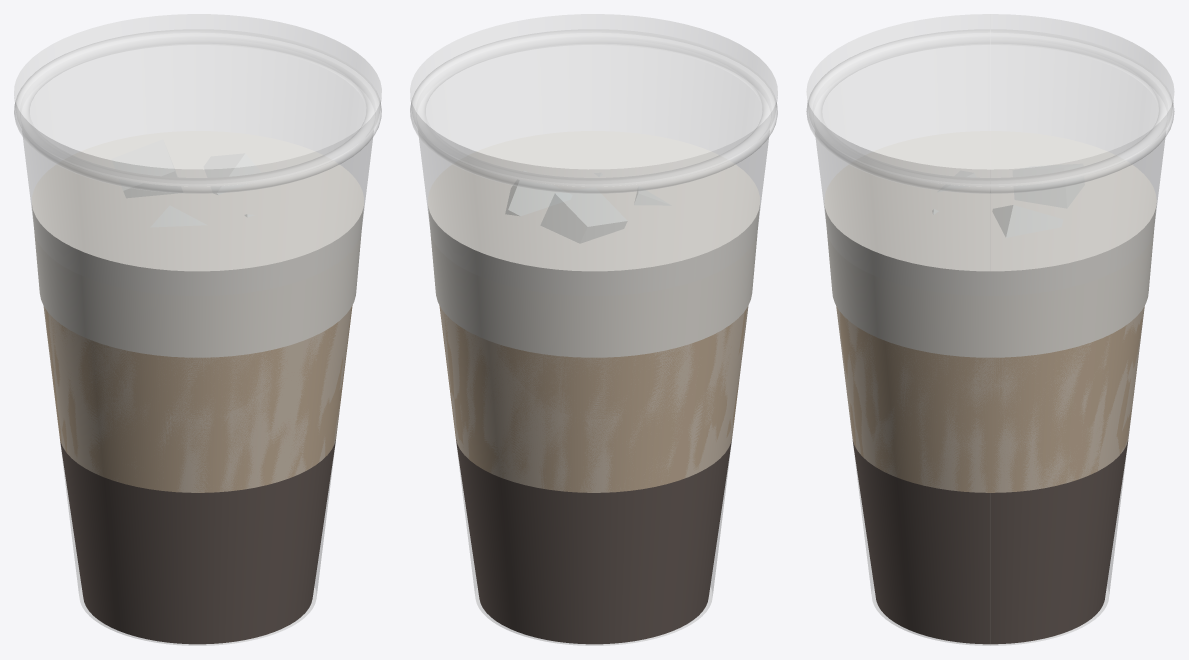
Rendered from sip-brew-iced-cup.glb.
The picture shows the model from 3 angles, left to right: view 1: azimuth 30°, elevation 25°; view 2: azimuth 150°, elevation 25°; view 3: azimuth 270°, elevation 25°; orthographic projection.
Visible parts, largest first — view 1: SipAndBrew_IcedCup, Ice_Cube_3, Ice_Cube_2, Ice_Cube_1; view 2: SipAndBrew_IcedCup, Ice_Cube_3, Ice_Cube_2; view 3: SipAndBrew_IcedCup, Ice_Cube_3, Ice_Cube_2.
Part boxes in pixels (x1,y1,x2,y2): SipAndBrew_IcedCup: (14,14,381,645); Ice_Cube_3: (112,140,176,197); Ice_Cube_2: (204,154,260,194); Ice_Cube_1: (151,206,205,226); SipAndBrew_IcedCup: (410,14,777,645); Ice_Cube_3: (541,192,626,243); Ice_Cube_2: (505,185,571,215); SipAndBrew_IcedCup: (806,14,1174,645); Ice_Cube_3: (1013,164,1084,208); Ice_Cube_2: (992,205,1062,237).
Bounding box in the file's own units: 0.93 × 1.41 × 0.93.
